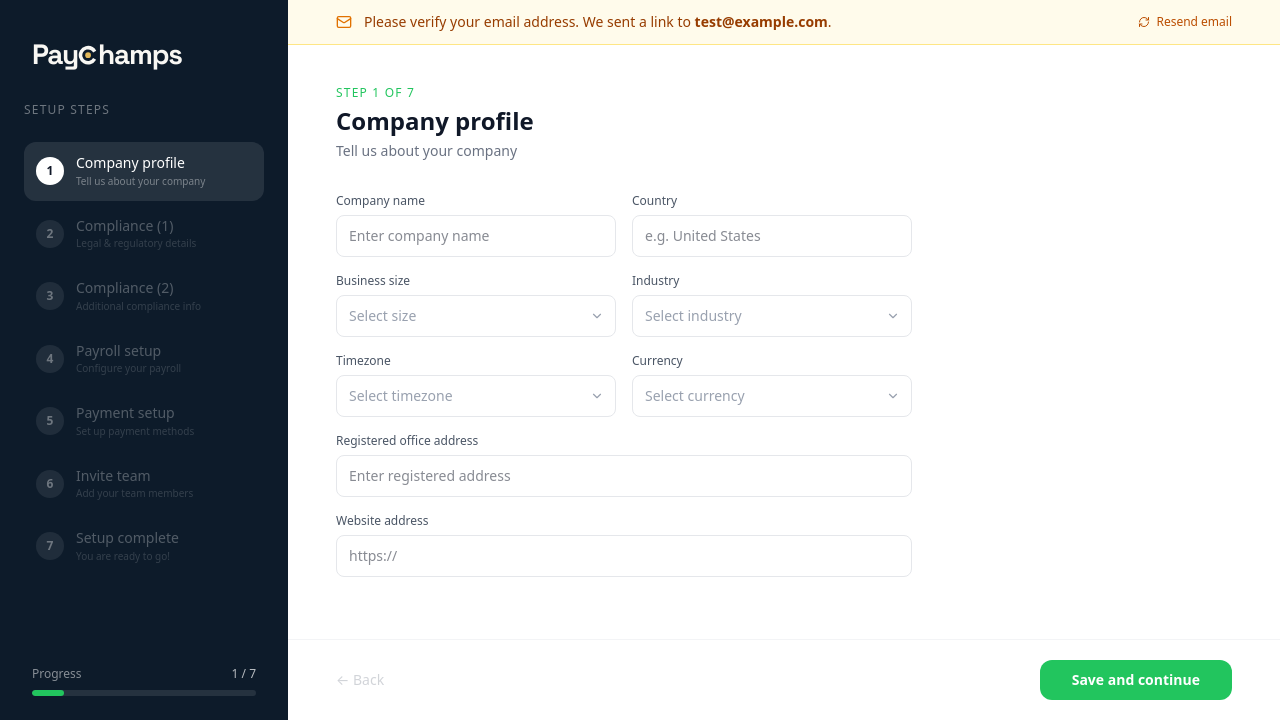
Test: Onboarding page › shows inline error when step save fails
expect the heading "Company profile" is shown: met, box [336,104,534,137]
What coordinates should you click on to do the following:
click the button "Save and continue"
I would click on:
 (1136, 680)
Its box is [1040,660,1232,700].
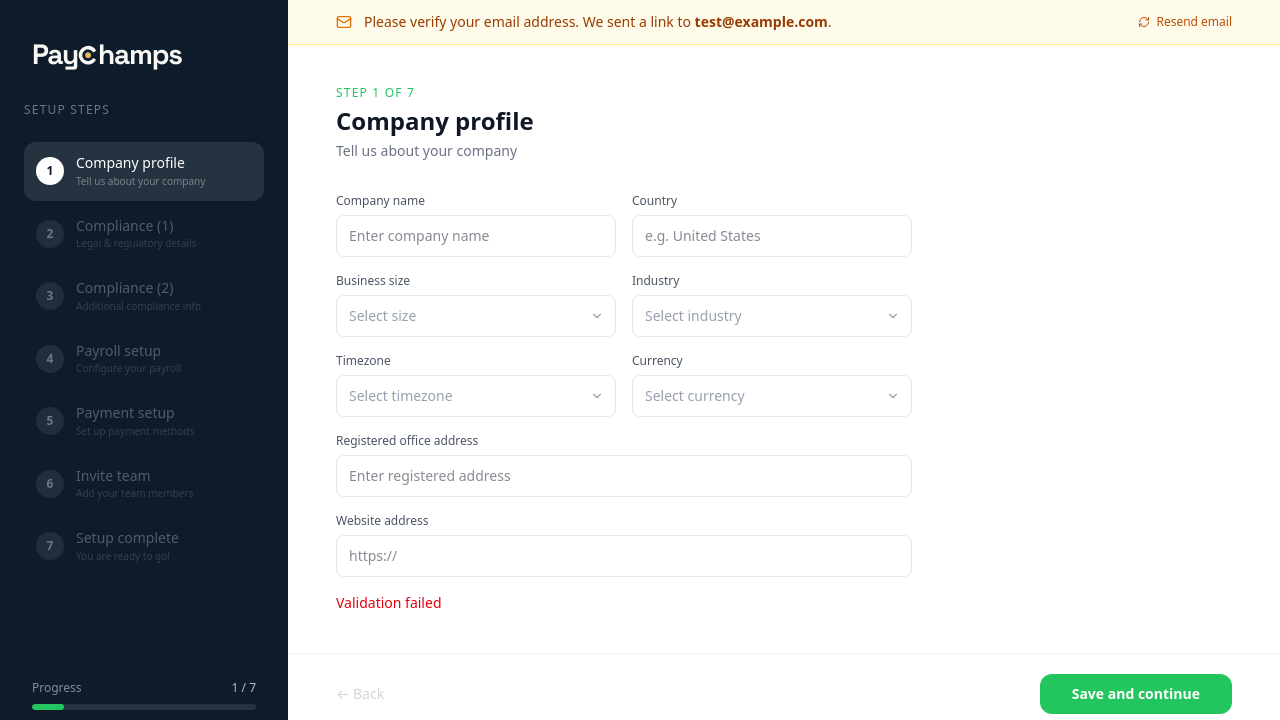
expect the text "Validation failed" is shown: met, box [336,593,442,612]
